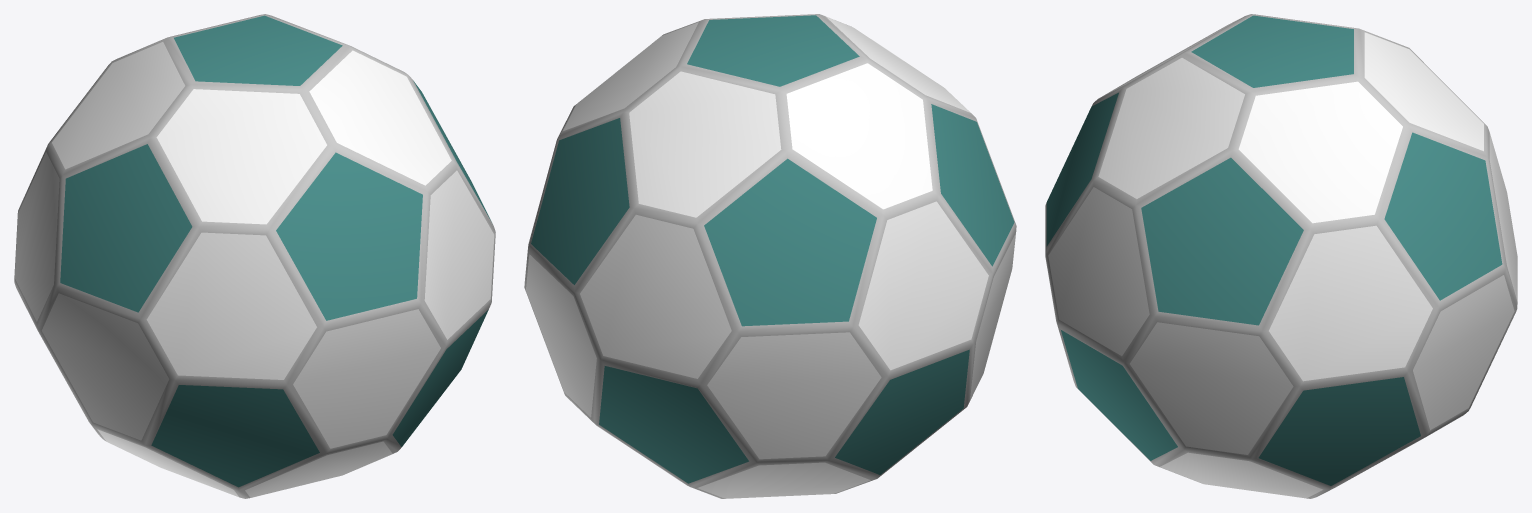
File: Football_2.fbx
3 views of the same model, side by side, from view 1: azimuth 30°, elevation 25°; view 2: azimuth 150°, elevation 25°; view 3: azimuth 270°, elevation 25° (orthographic). The views are drawn at different scales.
Parts seen in each view (by area): view 1: Football_2; view 2: Football_2; view 3: Football_2.
Part boxes in pixels (<box>): Football_2: <box>14,14,495,498</box>; Football_2: <box>524,14,1016,498</box>; Football_2: <box>1045,14,1517,498</box>.
Bounding box in the file's own units: 0.1913 × 0.1788 × 0.1867.
